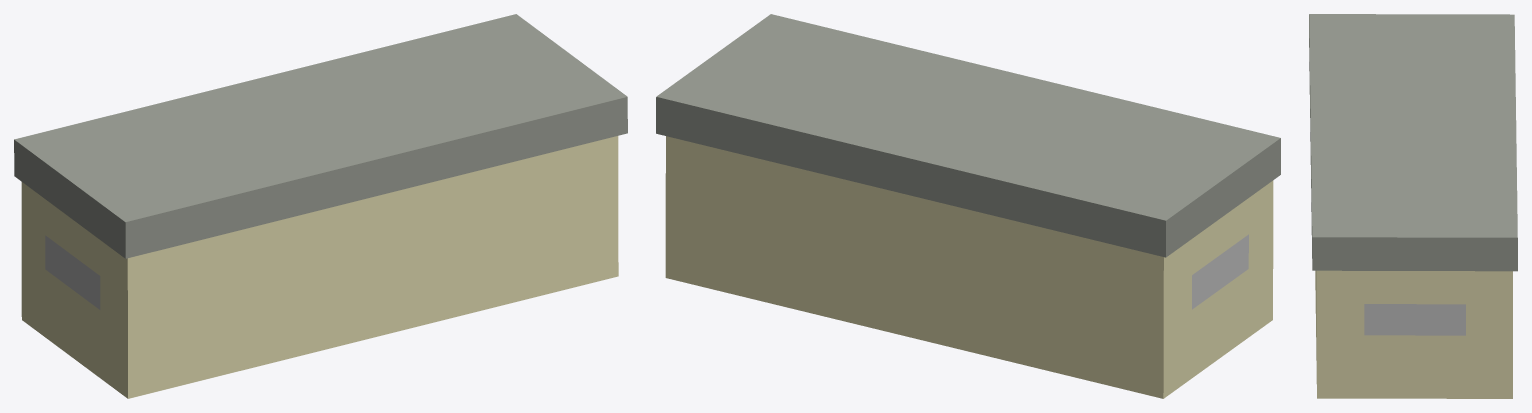
The model's file is SM_Cardboard_01.fbx.
3 views of the same model, side by side, from view 1: azimuth 30°, elevation 25°; view 2: azimuth 150°, elevation 25°; view 3: azimuth 270°, elevation 25° (orthographic). The views are drawn at different scales.
Visible parts, largest first — view 1: SM_Cardboard_01; view 2: SM_Cardboard_01; view 3: SM_Cardboard_01.
Boxes of the visible parts, bbox=[...] form: SM_Cardboard_01: bbox=[14, 14, 627, 398]; SM_Cardboard_01: bbox=[656, 14, 1280, 398]; SM_Cardboard_01: bbox=[1309, 14, 1517, 398].
Bounding box in the file's own units: 80.76 × 27.67 × 31.66.
